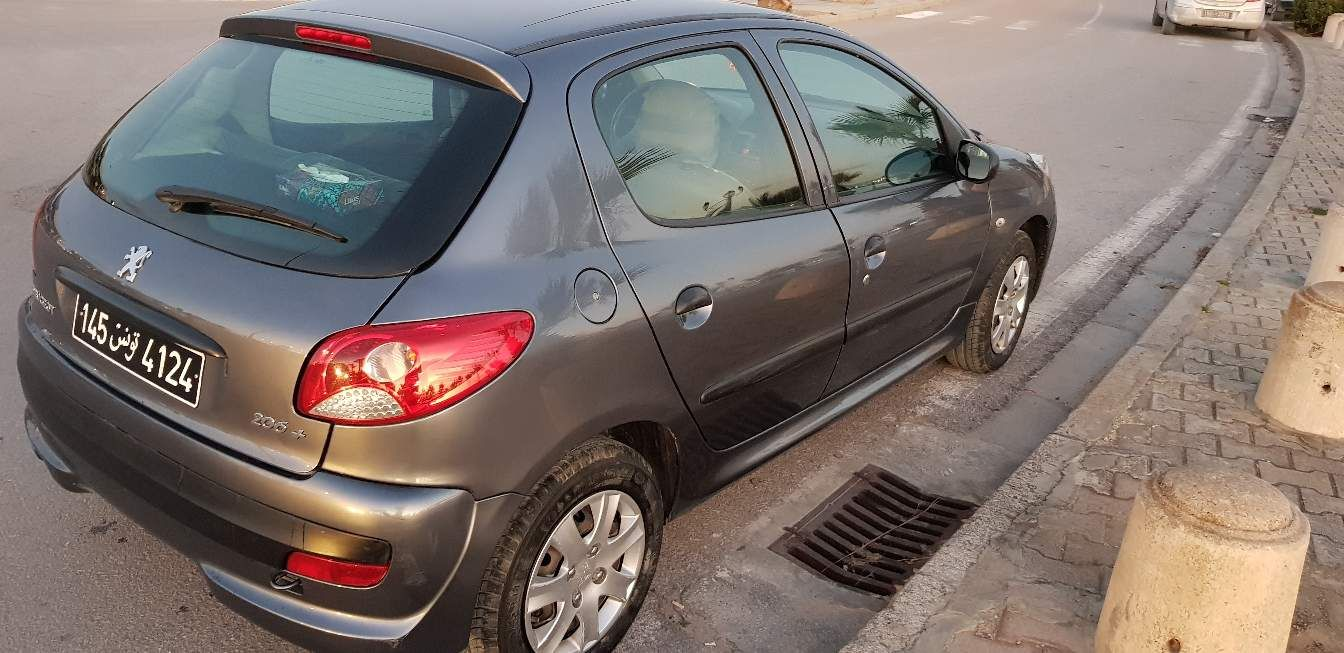LP: (70, 286, 203, 407)
